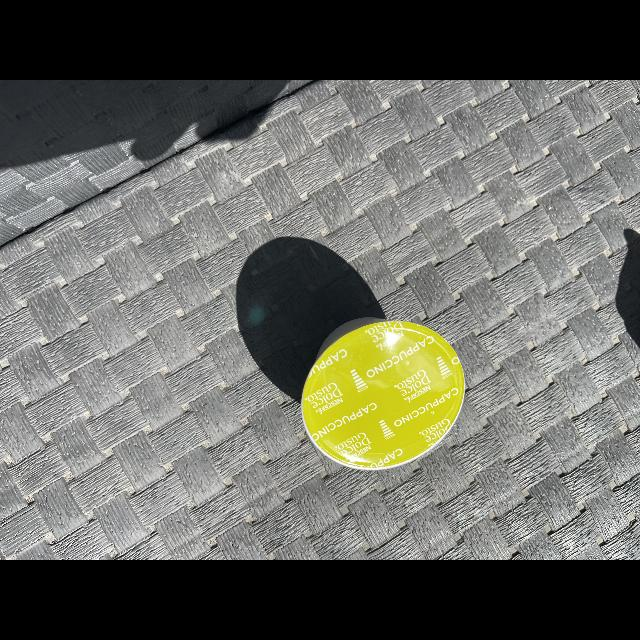intact_capsule: (294, 311, 472, 477)
